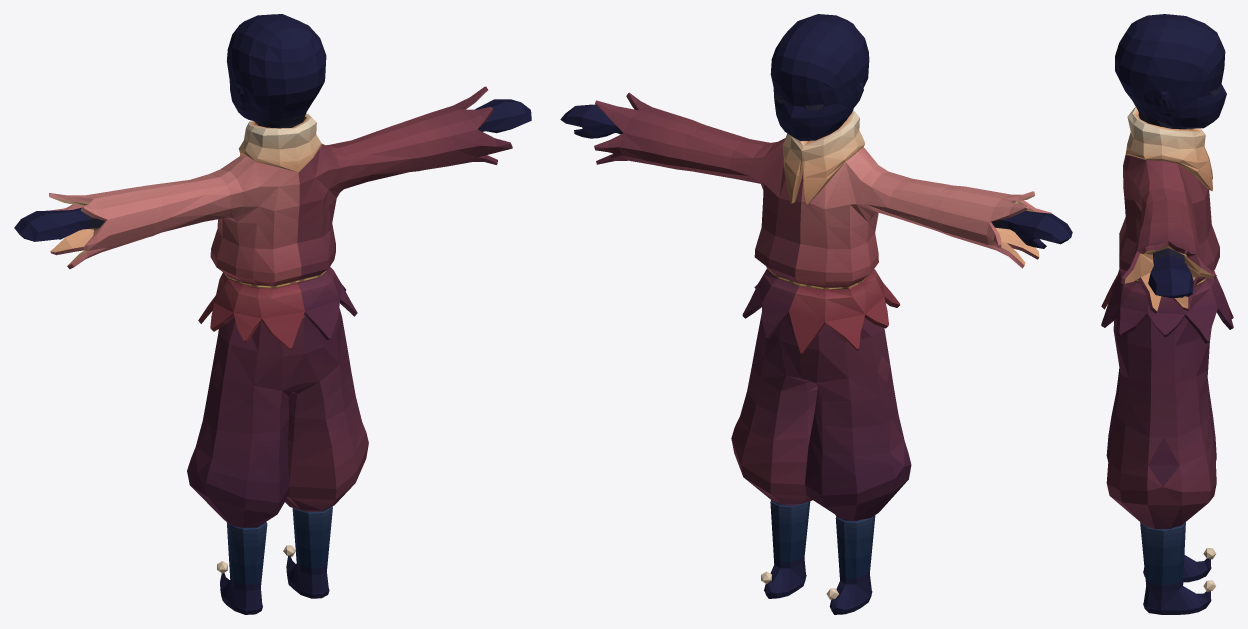
The model's file is CharSkyKid_Body_AP14JesterPants_01.glb.
3 views of the same model, side by side, from view 1: azimuth 30°, elevation 25°; view 2: azimuth 150°, elevation 25°; view 3: azimuth 270°, elevation 25° (orthographic).
Parts seen in each view (by area): view 1: CharSkyKid_Body_AP14JesterPants_01; view 2: CharSkyKid_Body_AP14JesterPants_01; view 3: CharSkyKid_Body_AP14JesterPants_01.
Boxes of the visible parts, box(x1,y1,x2,y2) form: CharSkyKid_Body_AP14JesterPants_01: box(14, 14, 531, 614); CharSkyKid_Body_AP14JesterPants_01: box(560, 14, 1072, 614); CharSkyKid_Body_AP14JesterPants_01: box(1101, 14, 1233, 614).
Bounding box in the file's own units: 13.82 × 14.93 × 3.12.
Materials: 1 (1 with a texture image).
